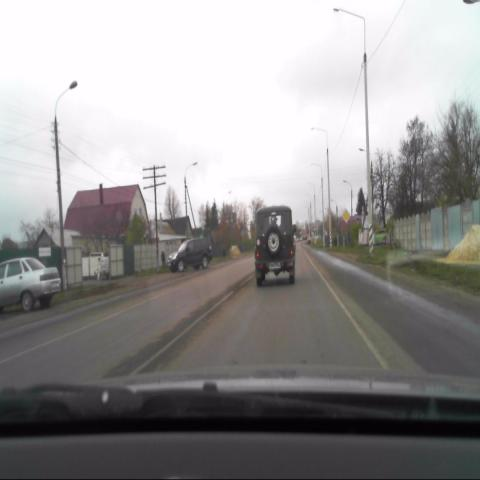2_1: (343, 209, 350, 222)
